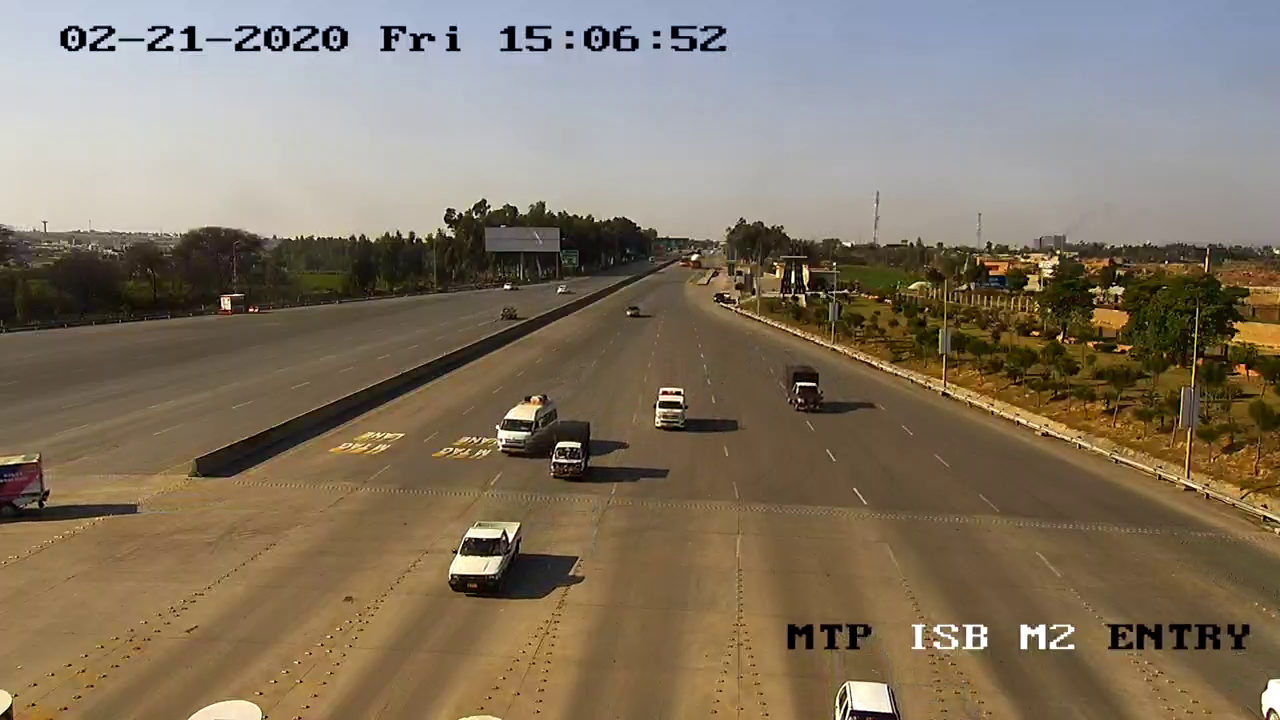f1: (440, 500, 532, 609), (546, 415, 594, 488), (644, 378, 698, 438)
f3: (492, 388, 555, 461)
